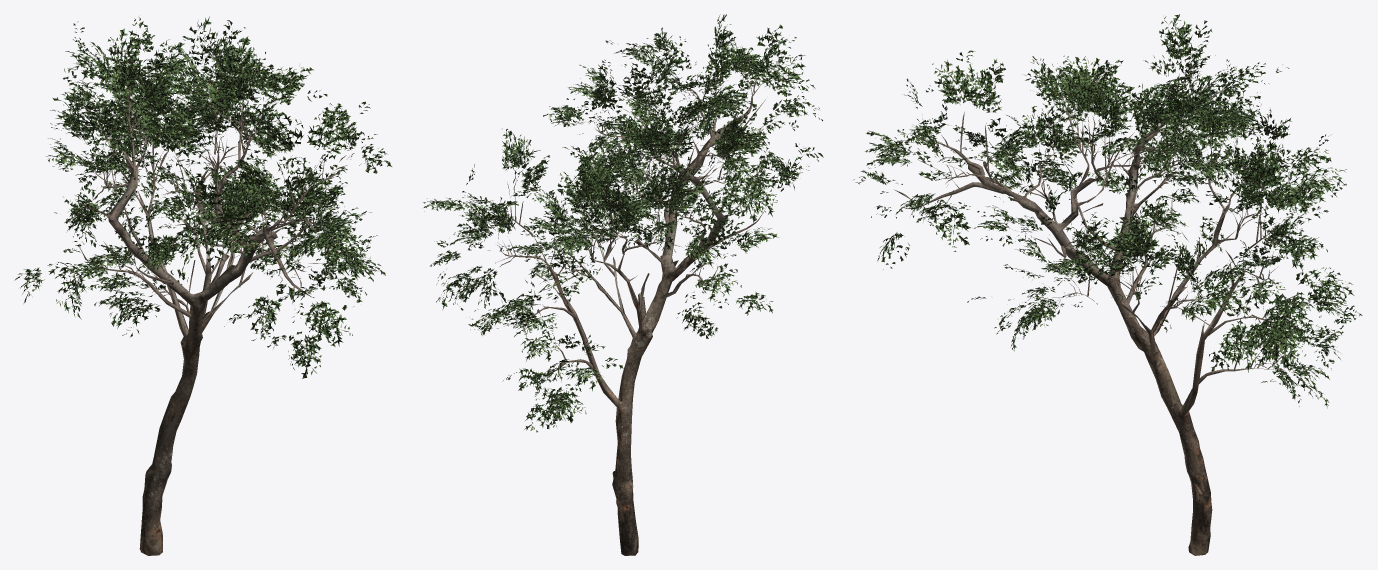
3 views of the same model, side by side, from view 1: azimuth 30°, elevation 25°; view 2: azimuth 150°, elevation 25°; view 3: azimuth 270°, elevation 25° (orthographic). The views are drawn at different scales.
Visible parts, largest first — view 1: tree_small_02_LOD0; view 2: tree_small_02_LOD0; view 3: tree_small_02_LOD0.
Part boxes in pixels (x1,y1,x2,y2): tree_small_02_LOD0: [14, 16, 391, 555]; tree_small_02_LOD0: [423, 14, 823, 555]; tree_small_02_LOD0: [854, 14, 1362, 555].
Size of the model in its own units: 2.91 by 4.55 by 4.22.
3 materials, 3 textured.
